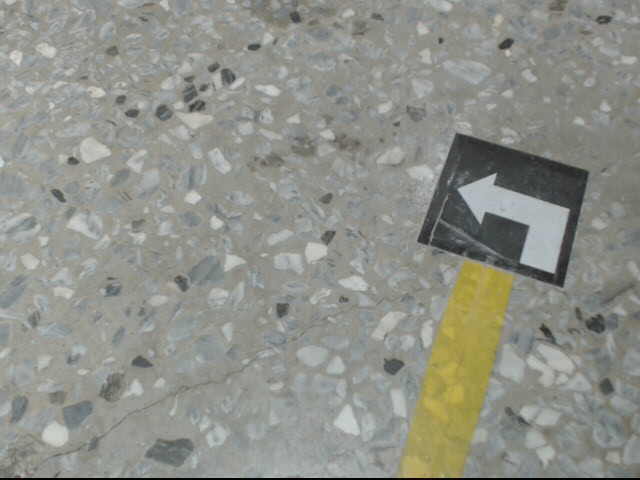left: (416, 134, 591, 286)
